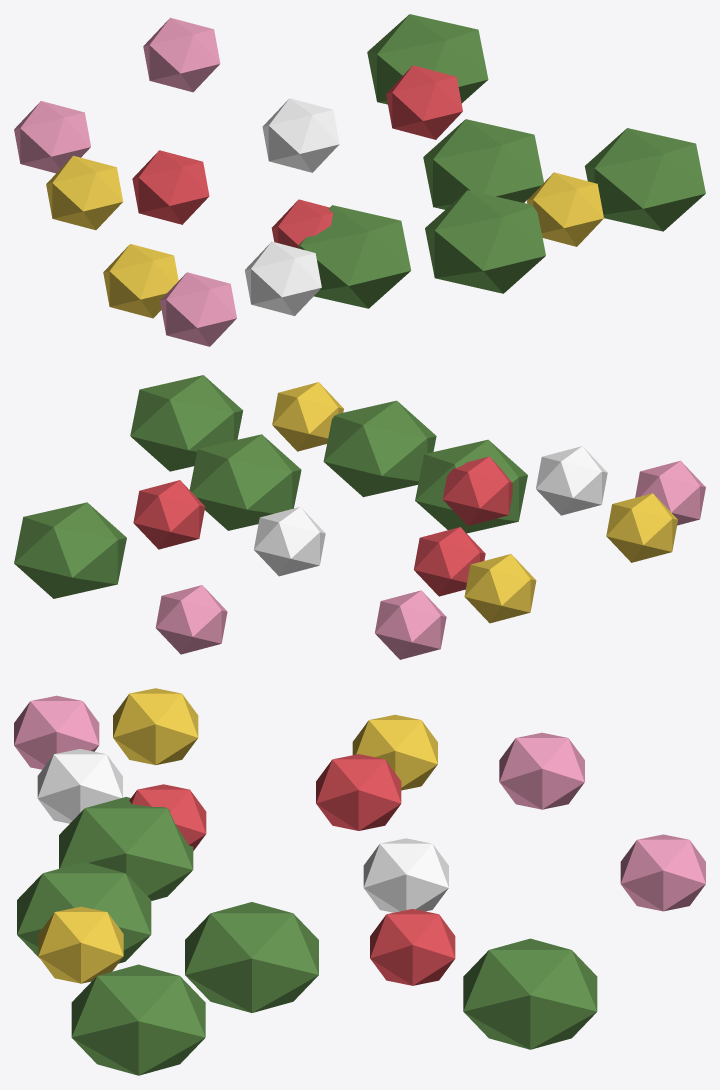
Rendered from Kir_cicek_2_Hafif.fbx.
3 views of the same model, one above another, from view 1: azimuth 30°, elevation 25°; view 2: azimuth 150°, elevation 25°; view 3: azimuth 270°, elevation 25° (orthographic). The views are drawn at different scales.
Parts seen in each view (by area): view 1: Kir_cicek_2_Hafif; view 2: Kir_cicek_2_Hafif; view 3: Kir_cicek_2_Hafif.
Part boxes in pixels (bbox=[...]): Kir_cicek_2_Hafif: bbox=[14, 14, 705, 346]; Kir_cicek_2_Hafif: bbox=[14, 375, 705, 659]; Kir_cicek_2_Hafif: bbox=[14, 688, 705, 1075].
Bounding box in the file's own units: 2.14 × 0.2882 × 1.93.
